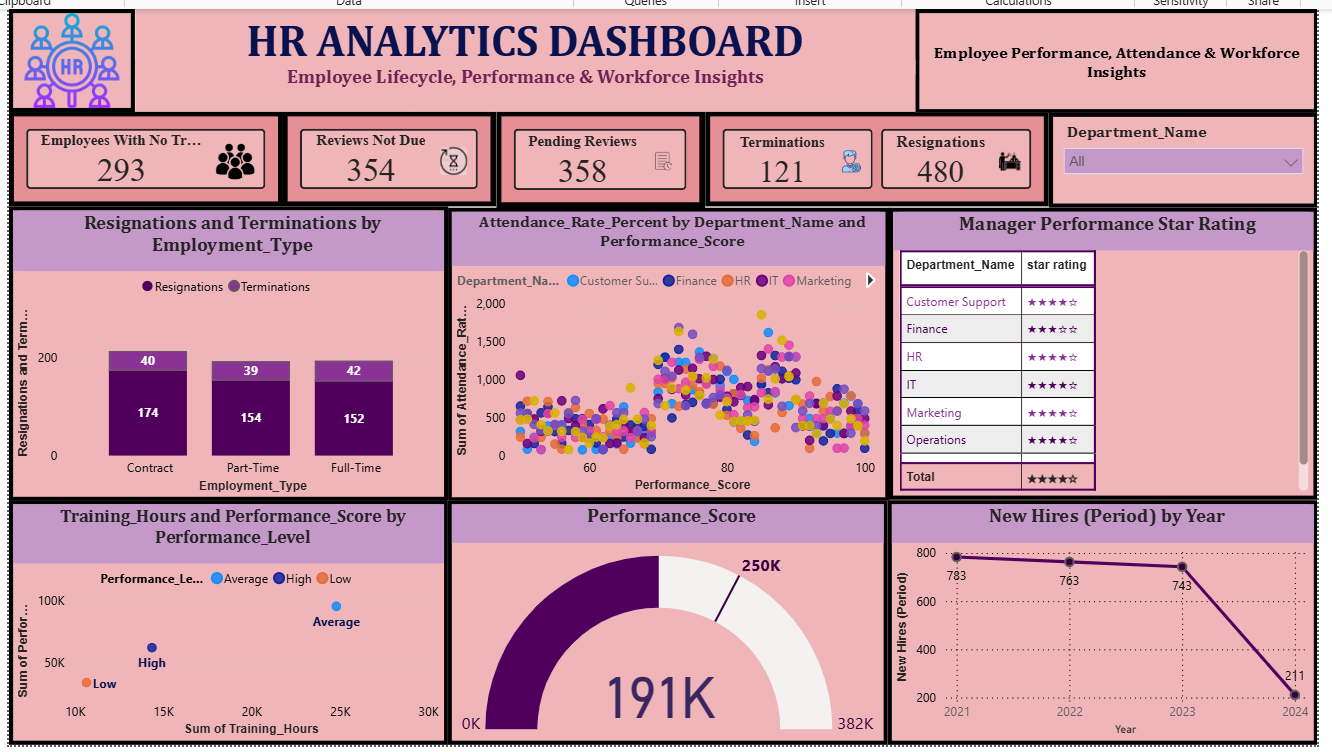

What the dashboard file says about the page in this screenshot:
{"tool":"powerbi","page":{"name":" Analysis","canvas":[1280,720],"ordinal":1},"visuals":[{"type":"scatterChart","title":" Attendance_Rate_Percent by Department_Name and Performance_Score","fields":{"X":["Employee.Performance_Score"],"Y":["Sum(Employee.Attendance_Rate_Percent)"],"Series":["Departments.Department_Name"]},"box":[429.3,193.9,431.8,287],"z":0},{"type":"scatterChart","title":" Training_Hours and  Performance_Score by Performance_Level","fields":{"X":["Sum(Employee.Training_Hours)"],"Y":["Sum(Employee.Performance_Score)"],"Series":["Employee.Performance_Level"]},"box":[0,480.9,429.3,239.2],"z":1000},{"type":"columnChart","fields":{"Y":["Departments.Resignations","Departments.Terminations"],"Category":["Employee.Employment_Type"]},"box":[0,194.4,429.2,286.1],"z":2000},{"type":"gauge","title":" Performance_Score","fields":{"Y":["Sum(Employee.Performance_Score)"],"TargetValue":["Departments.Target"]},"box":[429.3,480.9,430.5,239.2],"z":3000},{"type":"lineChart","fields":{"Y":["Departments.New Hires (Period)"],"Category":["Dim_Date.Date.Variation.Date Hierarchy.Year"]},"box":[859.8,480.9,420.5,239.2],"z":4000},{"type":"tableEx","title":"Manager Performance Star Rating","fields":{"Values":["Departments.Department_Name","Departments.Average of Manager_Rating star rating"]},"box":[861.1,193.9,419.2,285.8],"z":5000},{"type":"slicer","fields":{"Values":["Departments.Department_Name"]},"box":[1017.2,102,263.1,93.2],"z":6000},{"type":"cardVisual","fields":{"Data":["Departments.Employees With No Training"]},"box":[0,100.7,268.1,93.2],"z":7000},{"type":"cardVisual","fields":{"Data":["Departments.Reviews Not Due"]},"box":[268.1,100.7,209,93.2],"z":8000},{"type":"cardVisual","fields":{"Data":["Departments.Pending Reviews"]},"box":[477.1,100.7,203.9,94.4],"z":9000},{"type":"cardVisual","fields":{"Data":["Departments.Terminations","Departments.Resignations"]},"box":[681,100.7,336.1,93.2],"z":10000},{"type":"actionButton","box":[886.2,0,394,102],"z":11000},{"type":"image","box":[0,0,123.4,100.7],"z":12000},{"type":"textbox","box":[123.4,0,762.9,64.2],"z":13000},{"type":"textbox","box":[123.4,50.4,762.9,50.4],"z":14000}]}

Visuals, with their boxes in screenshot pixels (x1, y1, x2, y2):
" Attendance_Rate_Percent by Department_Name and Performance_Score" scatterChart: 444 202 887 497
" Training_Hours and  Performance_Score by Performance_Level" scatterChart: 3 497 444 742
columnChart - Departments.Resignations x Departments.Terminations: 3 203 444 497
" Performance_Score" gauge: 444 497 886 742
lineChart - Departments.New Hires (Period) x Dim_Date.Date.Variation.Date Hierarchy.Year: 886 497 1317 742
"Manager Performance Star Rating" tableEx: 887 202 1317 496
slicer - Departments.Department_Name: 1047 108 1317 204
cardVisual - Departments.Employees With No Training: 3 107 279 202
cardVisual - Departments.Reviews Not Due: 279 107 493 202
cardVisual - Departments.Pending Reviews: 493 107 702 204
cardVisual - Departments.Terminations x Departments.Resignations: 702 107 1047 202
actionButton: 913 3 1317 108
image: 3 3 130 107
textbox: 130 3 913 69
textbox: 130 55 913 107
